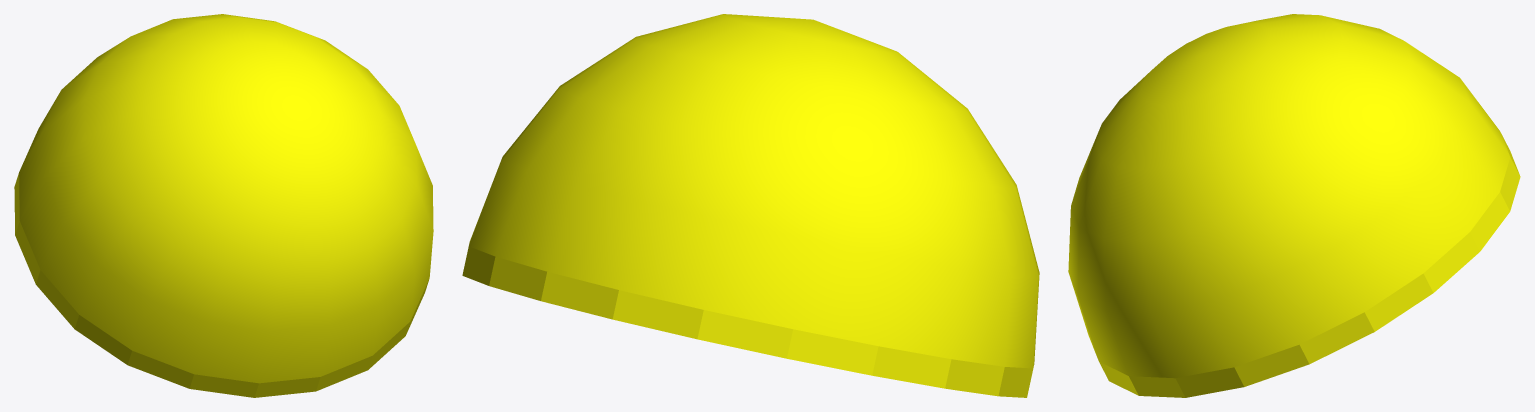
Rendered from powerbubble.glb.
3 renders of one model, left to right at view 1: azimuth 30°, elevation 25°; view 2: azimuth 150°, elevation 25°; view 3: azimuth 270°, elevation 25°, orthographic. The views are drawn at different scales.
Parts seen in each view (by area): view 1: powerbubble; view 2: powerbubble; view 3: powerbubble.
Part boxes in pixels (x1,y1,x2,y2): powerbubble: (14, 14, 433, 397); powerbubble: (462, 14, 1039, 397); powerbubble: (1068, 14, 1520, 397).
Size of the model in its own units: 1.1 by 0.8305 by 1.07.
1 material, 1 textured.
